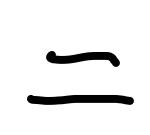eqv: (20, 48, 135, 106)
